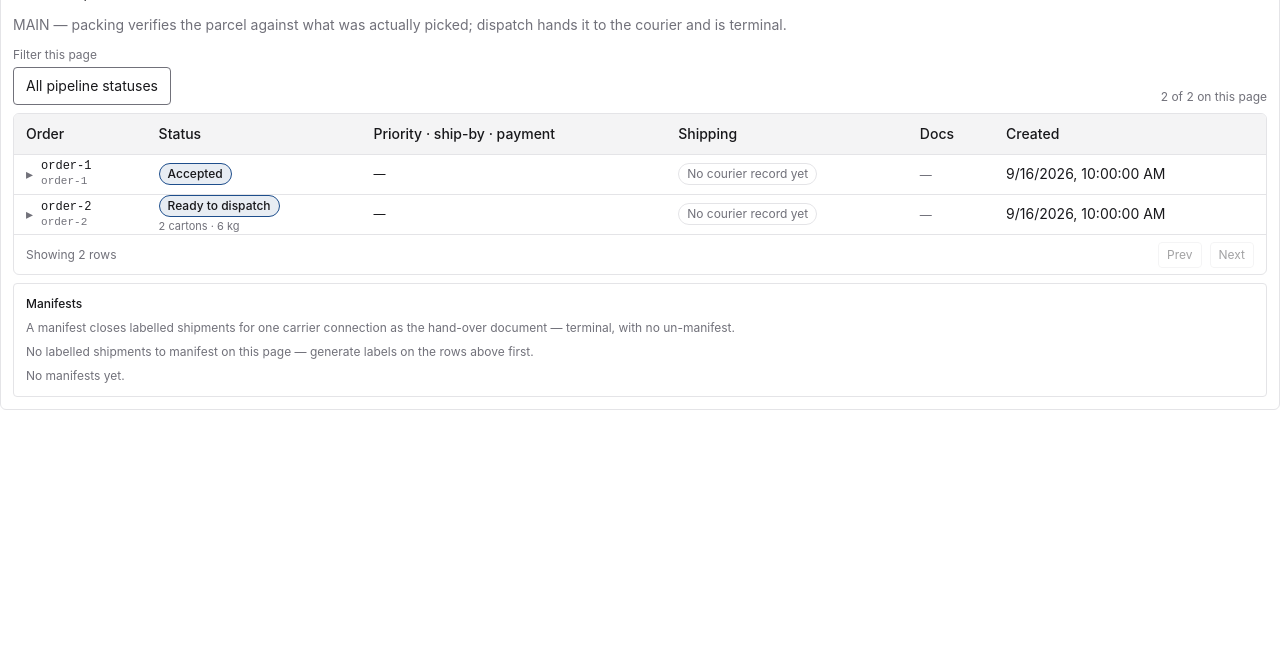
Test: Re-pack into cartons (A8, A26) › a reason is required — nothing is sent without one
Click the button "▸ order-2 order-2": (59, 214) x1=26 y1=198 x2=92 y2=230
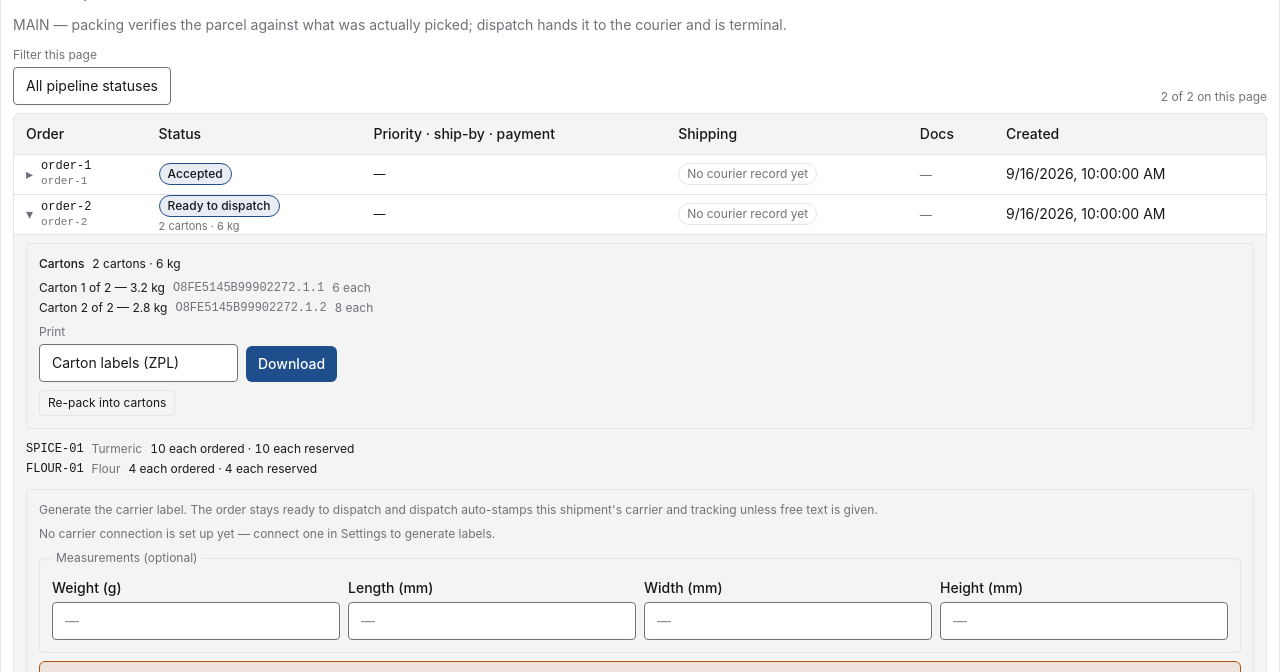
Click the button "Re-pack into cartons": (107, 403) x1=39 y1=390 x2=175 y2=416
(page scrolled)
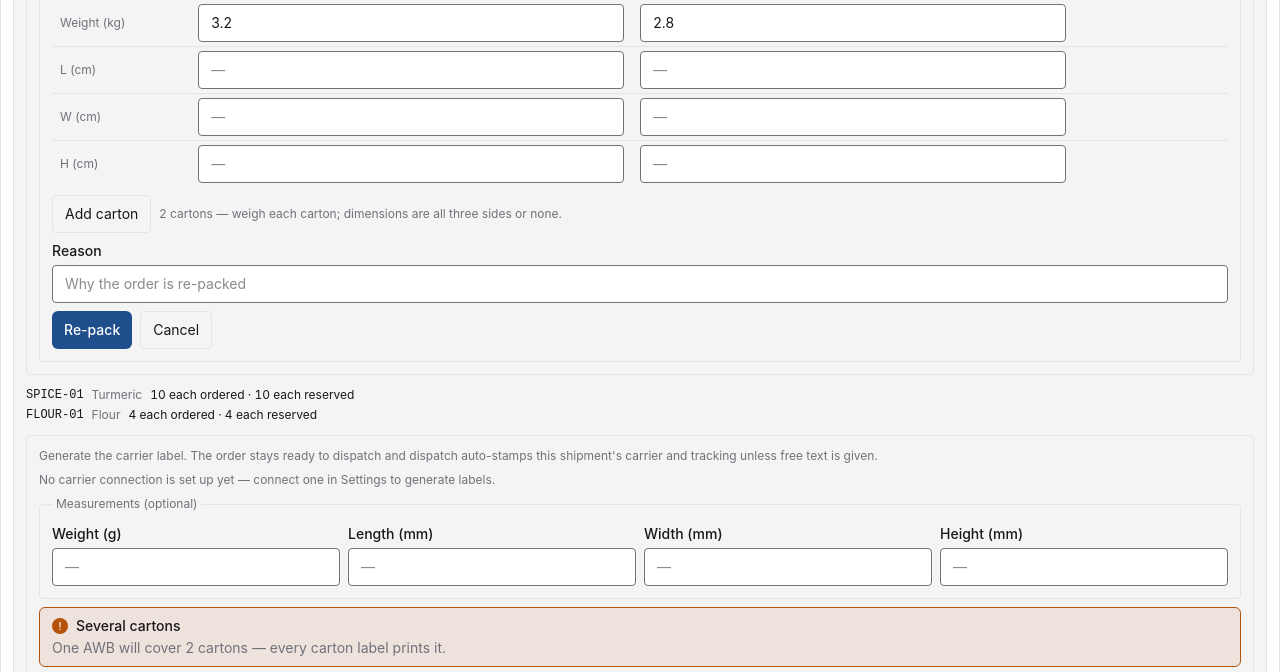
Click the button "Re-pack": (92, 330) x1=52 y1=311 x2=132 y2=349
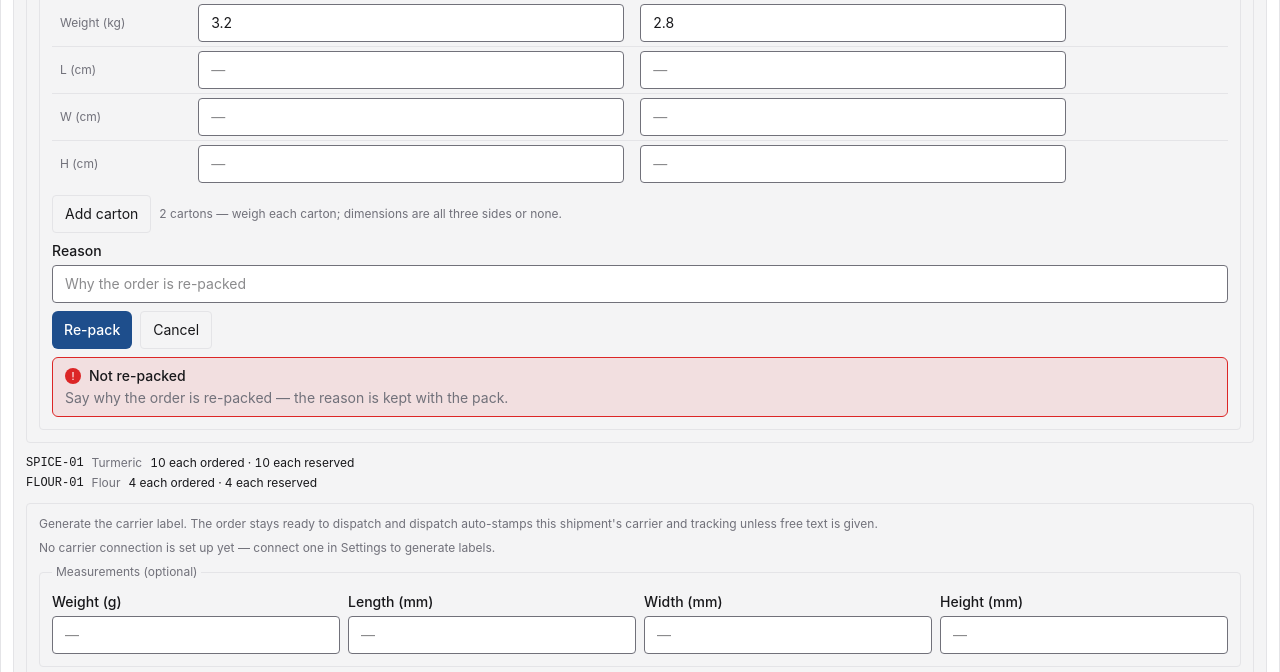
Check: the text "Say why the order is re-packed" is shown, box x1=65 y1=389 x2=508 y2=406
